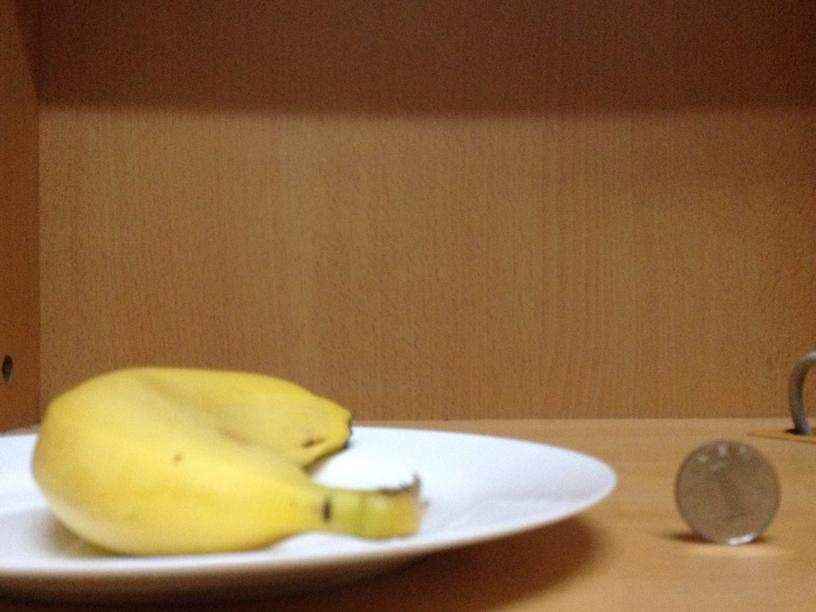banana: (31, 371, 369, 554)
coin: (676, 443, 779, 541)
